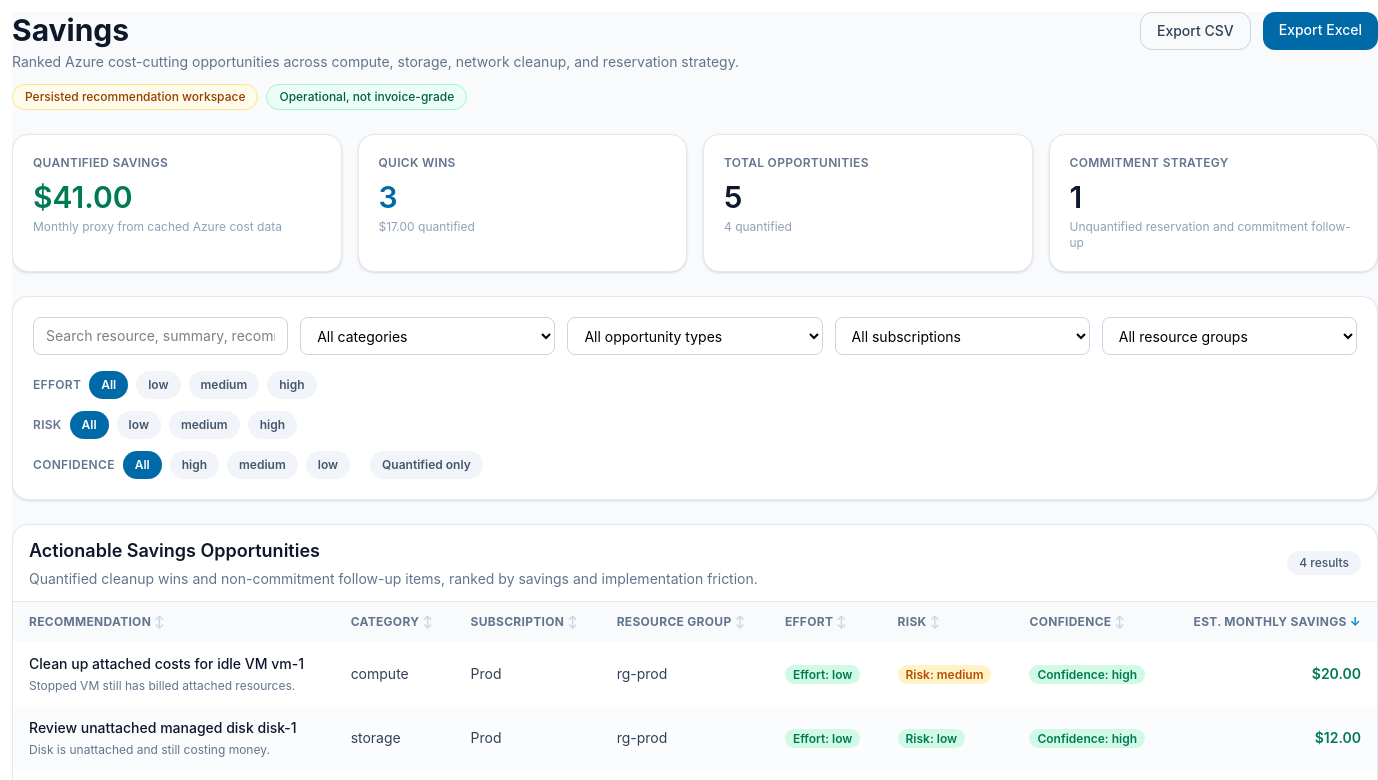
Test case: Azure savings workspace › renders the savings page, refilters results, opens the drawer, and updates export URLs
expect the text "Quantified Savings" is shown: met, box x1=33 y1=155 x2=168 y2=170
expect the text "Persisted recommendation workspace" is shown: met, box x1=12 y1=84 x2=258 y2=110
Step 1. Select "storage" in the 1st dropdown → (428, 336), box x1=300 y1=317 x2=555 y2=355
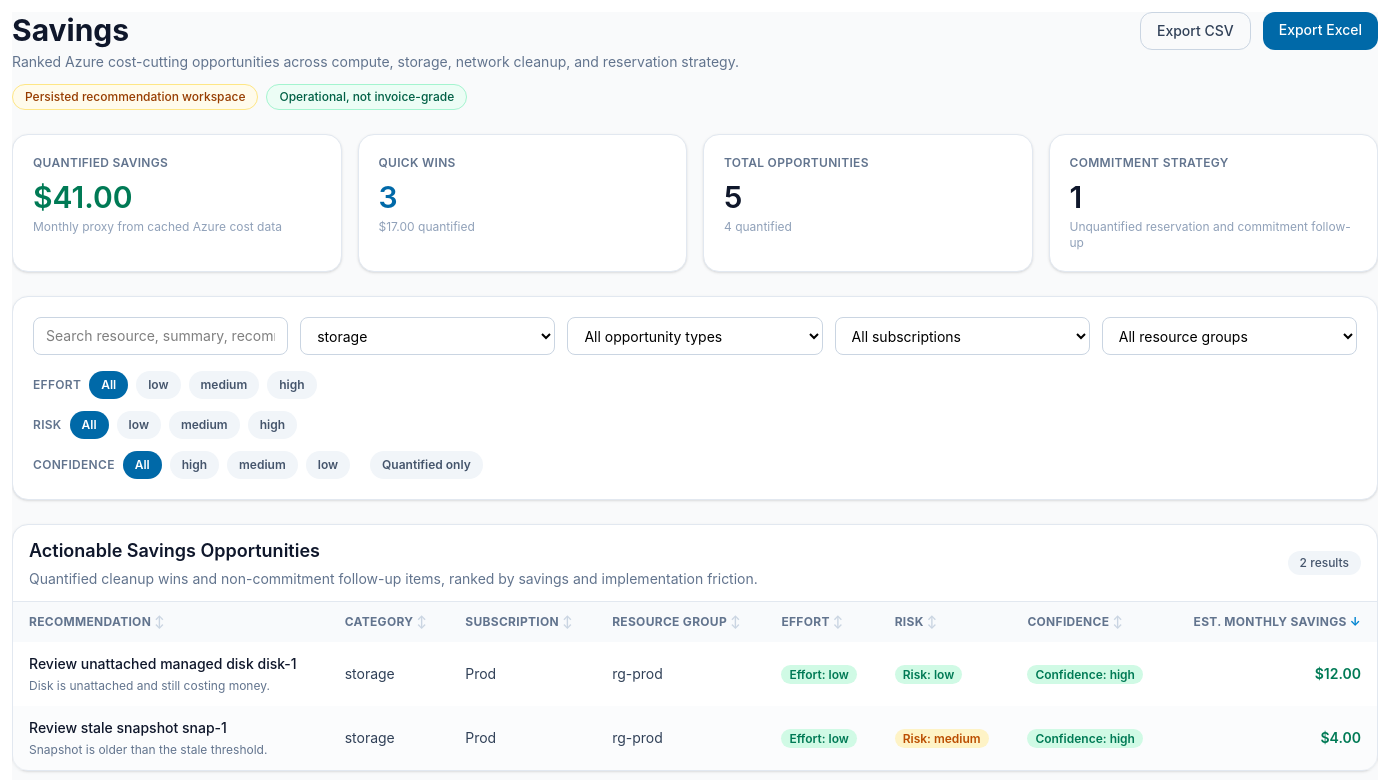
Step 2. Click the text "Review unattached managed disk disk-1" → (171, 664), box x1=29 y1=654 x2=313 y2=674
(page scrolled)
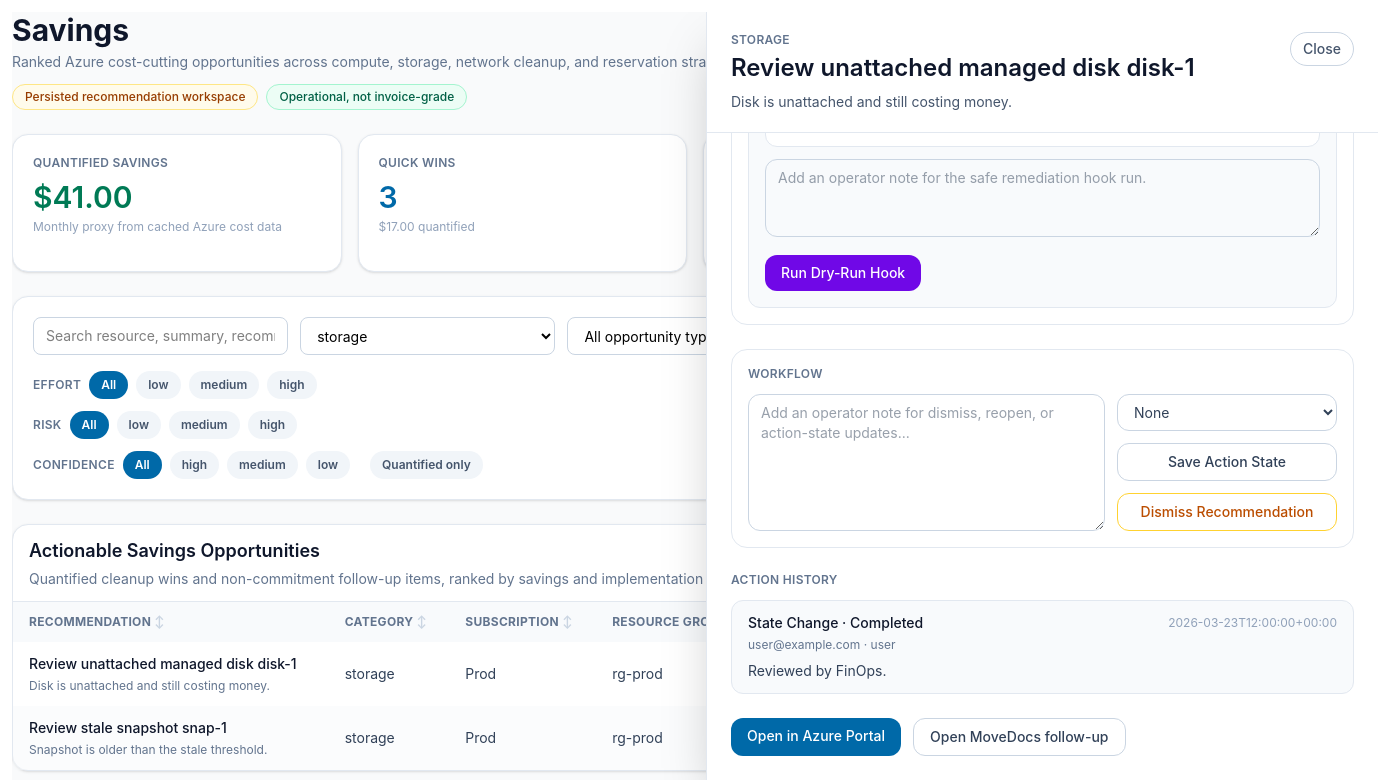
expect the text "Action History" is shown: met, box x1=731 y1=572 x2=838 y2=587
